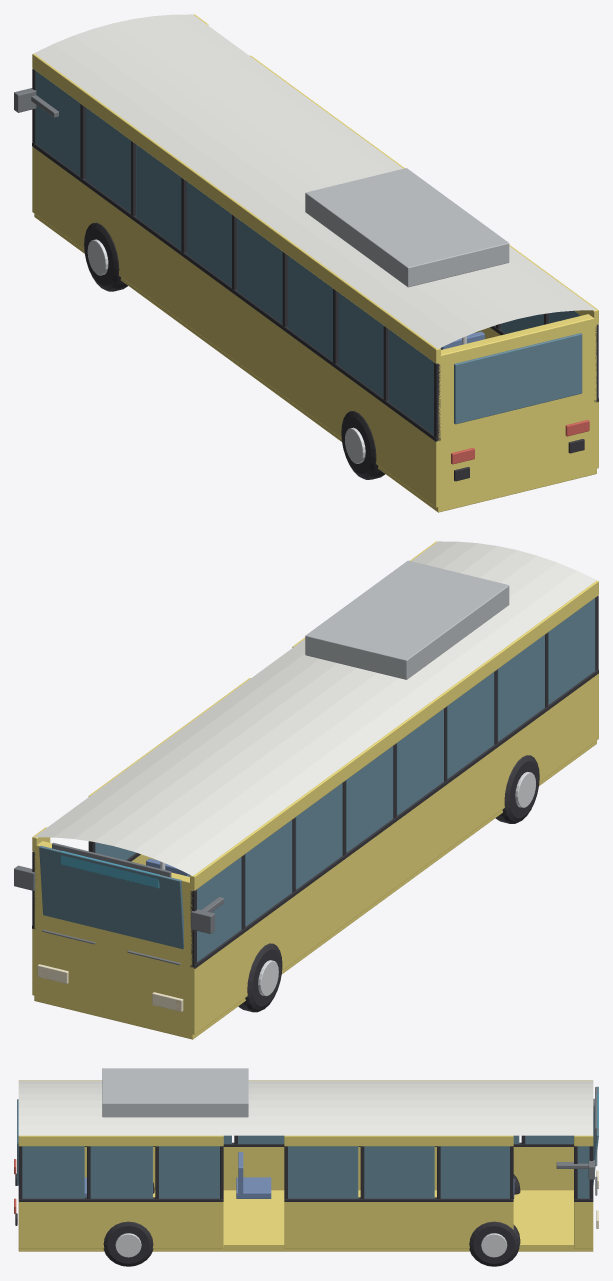
Rendered from BusYellow.fbx.
The picture shows the model from 3 angles, top to bottom: view 1: azimuth 30°, elevation 25°; view 2: azimuth 150°, elevation 25°; view 3: azimuth 270°, elevation 25°; orthographic projection. The views are drawn at different scales.
Parts seen in each view (by area): view 1: BusYellow; view 2: BusYellow; view 3: BusYellow.
Part boxes in pixels (x1=…): BusYellow: x1=14, y1=14, x2=598, y2=512; BusYellow: x1=14, y1=541, x2=598, y2=1039; BusYellow: x1=14, y1=1068, x2=598, y2=1266.
Size of the model in its own units: 310 by 325 by 1120.
